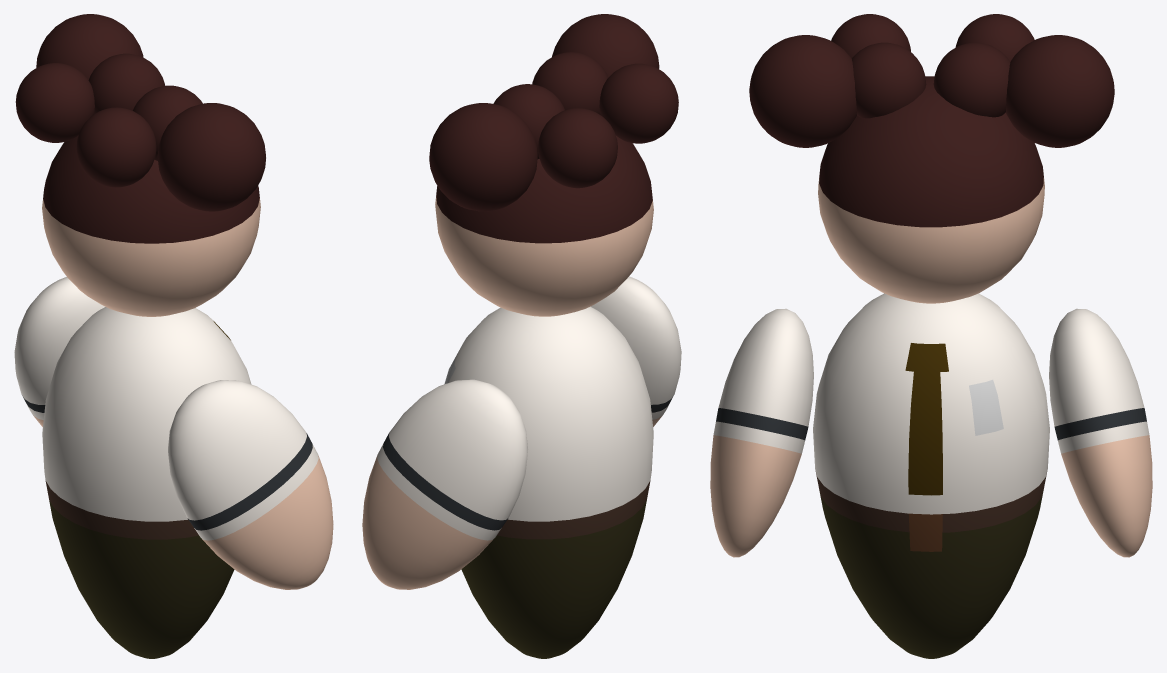
The model's file is Opa 1.fbx.
The picture shows the model from 3 angles, left to right: view 1: azimuth 30°, elevation 25°; view 2: azimuth 150°, elevation 25°; view 3: azimuth 270°, elevation 25°; orthographic projection. The views are drawn at different scales.
Parts seen in each view (by area): view 1: Sphere.001, Sphere.002, Sphere, Sphere.007, Sphere.003, Sphere.006, Sphere.005, Sphere.004, Sphere.008, Sphere.009; view 2: Sphere.001, Sphere.003, Sphere, Sphere.004, Sphere.002, Sphere.005, Sphere.006, Sphere.007, Sphere.009, Sphere.008; view 3: Sphere.001, Sphere, Sphere.002, Sphere.003, Sphere.004, Sphere.007, Sphere.008, Sphere.009, Sphere.005, Sphere.006.
Part boxes in pixels (box(x1,y1,x2,y2)): Sphere.001: box(42, 307, 251, 658); Sphere.002: box(168, 380, 333, 589); Sphere: box(42, 135, 260, 316); Sphere.007: box(157, 103, 265, 211); Sphere.003: box(14, 277, 105, 427); Sphere.006: box(76, 107, 156, 187); Sphere.005: box(15, 63, 94, 142); Sphere.004: box(36, 14, 143, 79); Sphere.008: box(88, 53, 165, 114); Sphere.009: box(133, 85, 202, 160); Sphere.001: box(444, 306, 653, 658); Sphere.003: box(362, 379, 527, 589); Sphere: box(435, 136, 653, 316); Sphere.004: box(429, 103, 537, 211); Sphere.002: box(591, 276, 681, 426); Sphere.005: box(538, 108, 617, 188); Sphere.006: box(599, 63, 678, 143); Sphere.007: box(552, 14, 659, 77); Sphere.009: box(532, 52, 608, 114); Sphere.008: box(493, 84, 564, 158); Sphere.001: box(813, 293, 1049, 658); Sphere: box(818, 76, 1044, 303); Sphere.002: box(710, 308, 813, 557); Sphere.003: box(1049, 308, 1152, 557); Sphere.004: box(1006, 35, 1114, 147); Sphere.007: box(749, 35, 856, 147); Sphere.008: box(933, 42, 1010, 117); Sphere.009: box(852, 42, 926, 118); Sphere.005: box(955, 14, 1034, 61); Sphere.006: box(831, 14, 910, 58).
Size of the model in its own units: 77.05 by 225 by 146.
